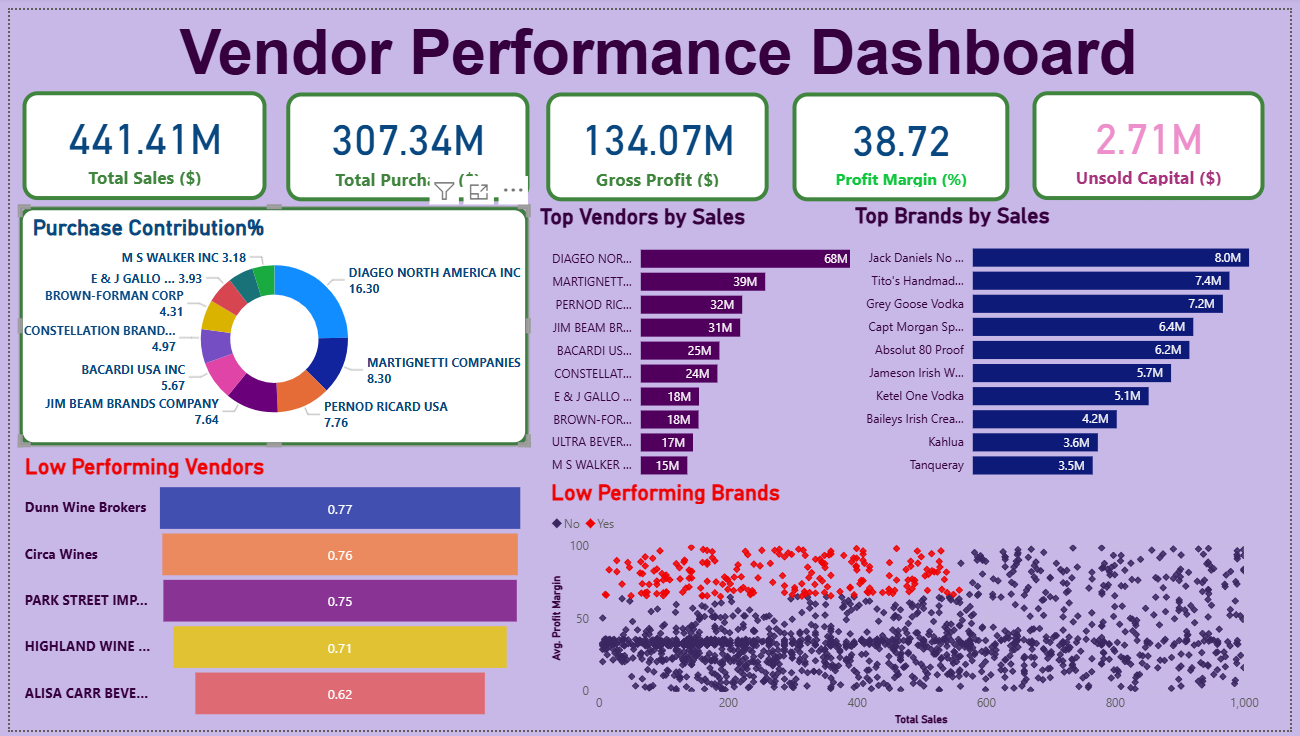

The page's visual inventory and layout, read from the dashboard file:
{"tool":"powerbi","page":{"name":"Page 1","canvas":[1280,720],"ordinal":0},"visuals":[{"type":"card","fields":{"Values":["Sum(vendor_sales_summary.TotalSalesDollars)"]},"box":[12.3,81,244.3,108.4],"z":0},{"type":"card","fields":{"Values":["Sum(vendor_sales_summary.TotalPurchaseDollars)"]},"box":[275.8,82.3,242.9,108.4],"z":1000},{"type":"card","fields":{"Values":["Sum(vendor_sales_summary.GrossProfit)"]},"box":[536.5,82.3,222.3,108.4],"z":2000},{"type":"card","fields":{"Values":["Avg(vendor_sales_summary.ProfitMargin)"]},"box":[782.2,82.3,216.8,108.4],"z":3000},{"type":"card","fields":{"Values":["Sum(vendor_sales_summary.UnsoldInventoryValue)"]},"box":[1022.3,81,231.9,108.4],"z":4000},{"type":"donutChart","title":"Purchase Contribution% ","fields":{"Category":["PurchaseContribution.VendorName"],"Y":["Sum(PurchaseContribution.PurchaseContribution%)"]},"box":[8.2,196.2,510.5,240.1],"z":5000},{"type":"clusteredBarChart","title":"Top Vendors by Sales","fields":{"Y":["Sum(vendor_sales_summary.TotalSalesDollars)"],"Category":["vendor_sales_summary.VendorName"]},"box":[525.6,193.5,371.9,285.4],"z":6000},{"type":"clusteredBarChart","title":"Top Brands by Sales","fields":{"Y":["Sum(vendor_sales_summary.TotalSalesDollars)"],"Category":["vendor_sales_summary.Description"]},"box":[839.8,192.1,440.5,286.8],"z":7000},{"type":"funnel","title":"Low Performing Vendors","fields":{"Category":["LowTurnoverVendor.VendorName"],"Y":["Sum(LowTurnoverVendor.AvgStockTurnover)"]},"box":[9.6,443.2,510.5,270.3],"z":8000},{"type":"scatterChart","title":"Low Performing Brands","fields":{"X":["Sum(BrandPerformance.TotalSales)"],"Y":["Sum(BrandPerformance.AverageProfitMargin)"],"Category":["BrandPerformance.Description"],"Series":["BrandPerformance.TargetBrand"]},"box":[536.8,469.6,717.8,250.7],"z":9000},{"type":"shape","title":"Vendor Performance Dashboard","box":[91.7,6.1,1114,69.7],"z":10000}]}

Visuals, with their boxes in screenshot pixels (x1, y1, x2, y2), scaled from the page's 1280x720 canvas onto the 1300x736 screenshot:
card - Sum(vendor_sales_summary.TotalSalesDollars): box=[12, 83, 261, 194]
card - Sum(vendor_sales_summary.TotalPurchaseDollars): box=[280, 84, 527, 195]
card - Sum(vendor_sales_summary.GrossProfit): box=[545, 84, 771, 195]
card - Avg(vendor_sales_summary.ProfitMargin): box=[794, 84, 1015, 195]
card - Sum(vendor_sales_summary.UnsoldInventoryValue): box=[1038, 83, 1274, 194]
"Purchase Contribution% " donutChart: box=[8, 201, 527, 446]
"Top Vendors by Sales" clusteredBarChart: box=[534, 198, 912, 490]
"Top Brands by Sales" clusteredBarChart: box=[853, 196, 1299, 490]
"Low Performing Vendors" funnel: box=[10, 453, 528, 729]
"Low Performing Brands" scatterChart: box=[545, 480, 1274, 735]
"Vendor Performance Dashboard" shape: box=[93, 6, 1225, 77]
